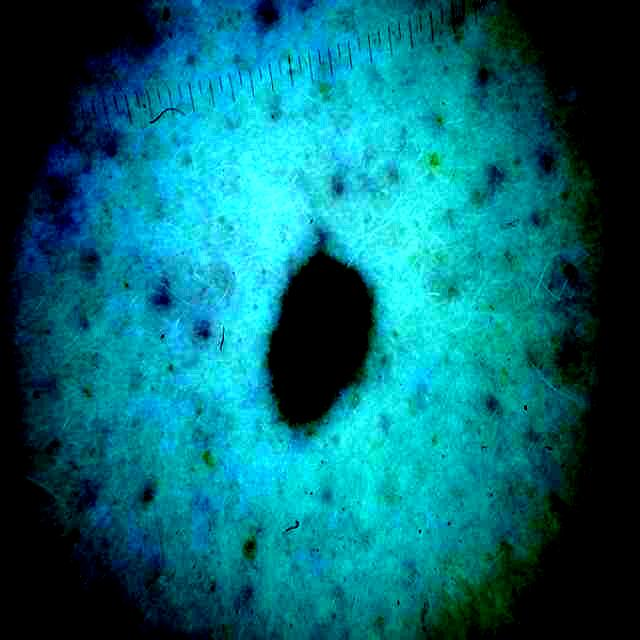MEL: (272, 257, 368, 418)
